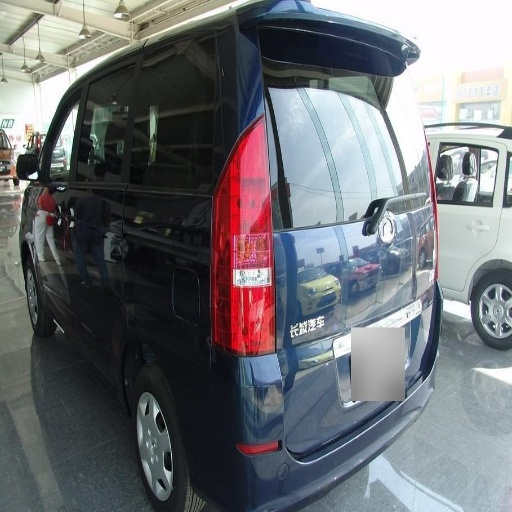back_bumper: (180, 353, 397, 508)
back_left_door: (79, 271, 114, 369)
back_left_light: (210, 167, 274, 355)
tailgate: (276, 288, 403, 434)
trunk: (281, 251, 413, 361), (119, 271, 170, 337)
